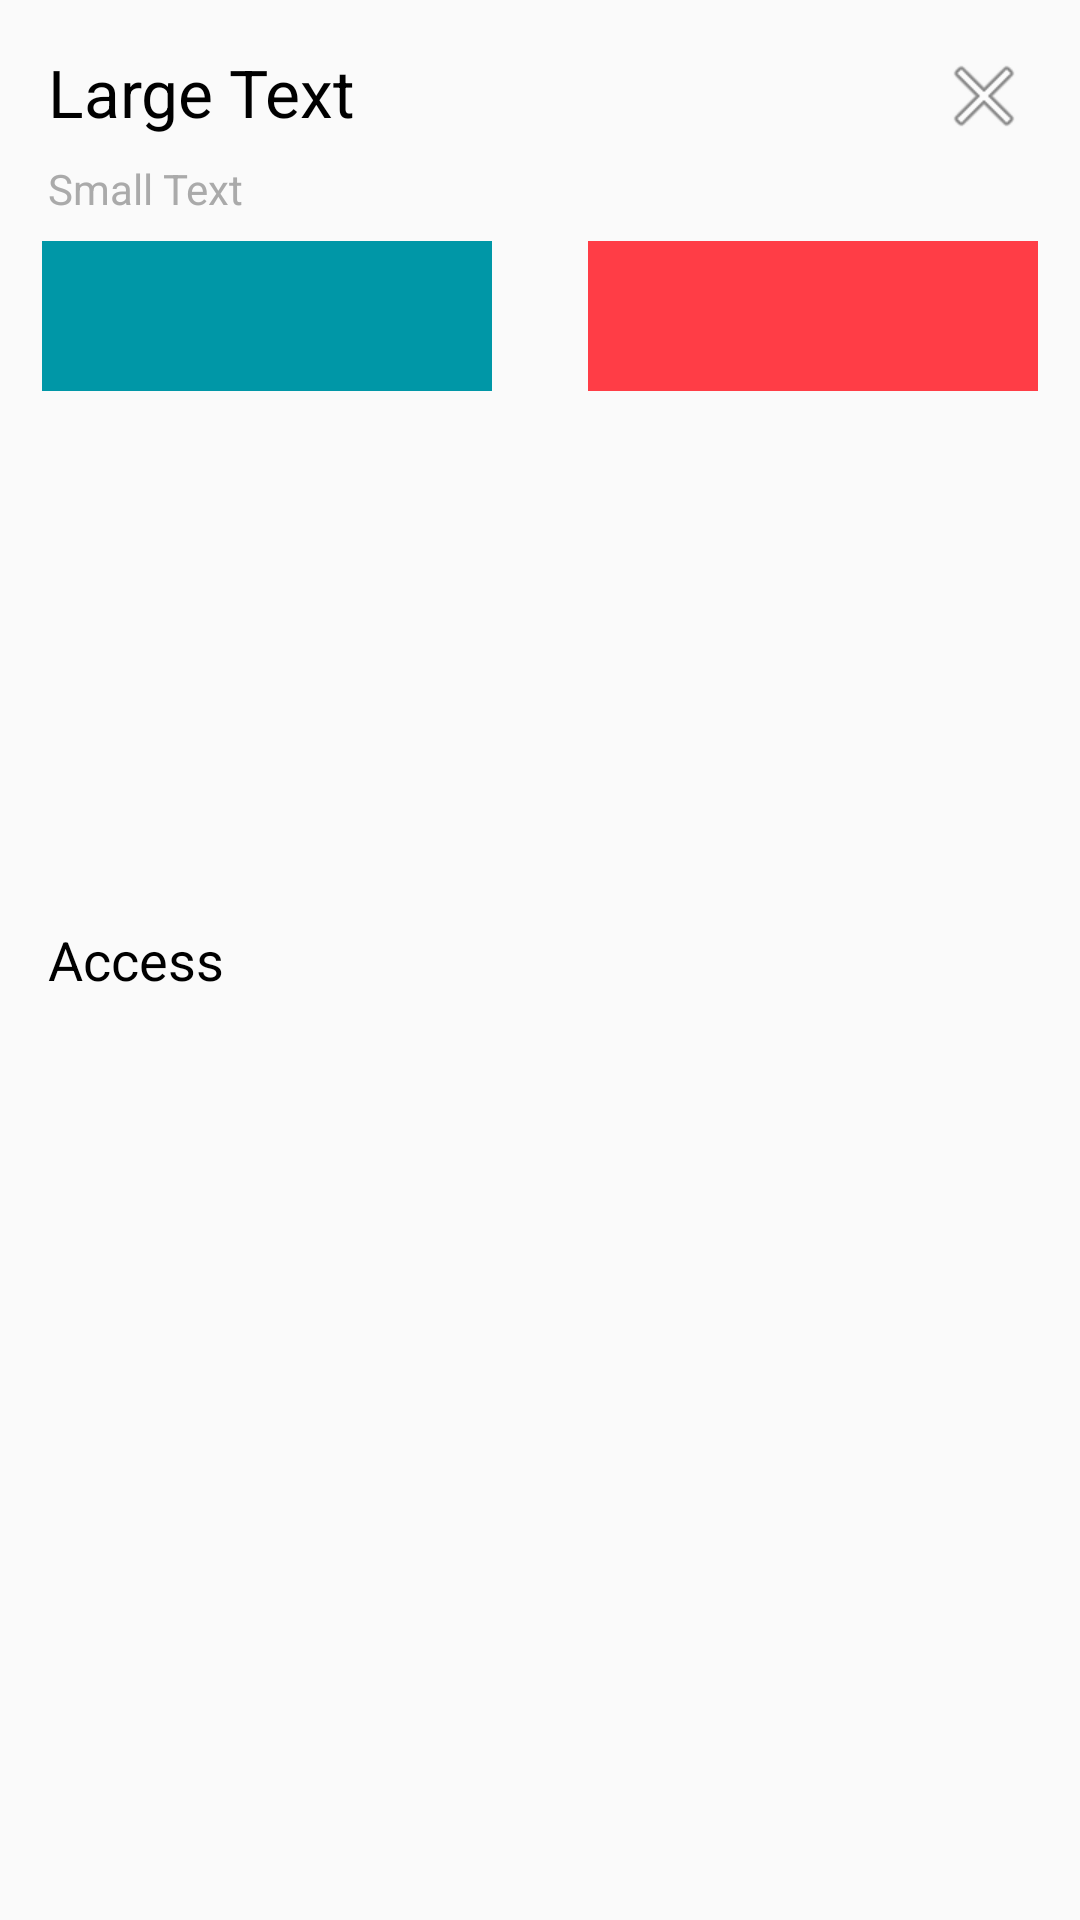

Where to tap for icons on this 1080 × 1920 app screen, as point (x, y):
close clear cancel: point (984, 96)
